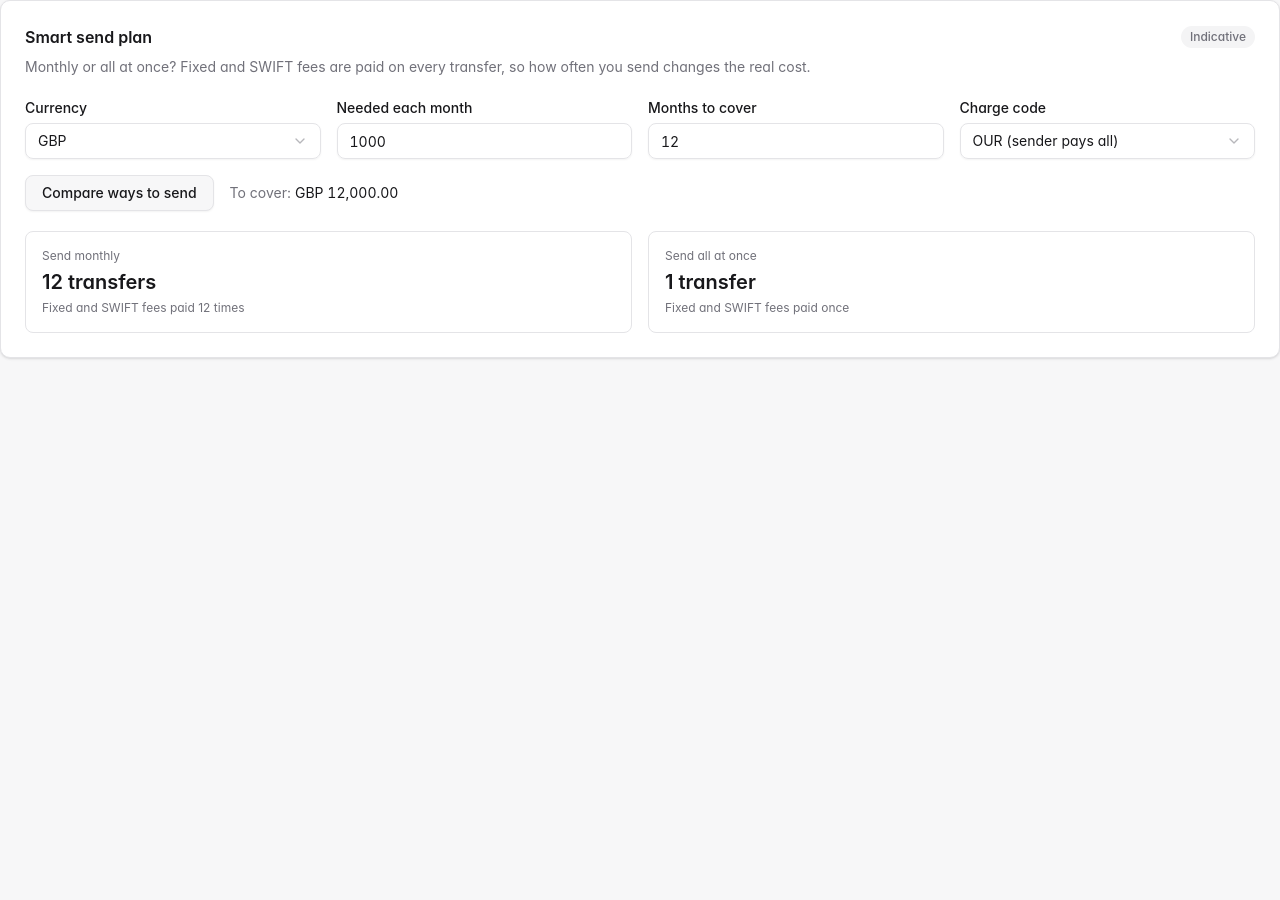
it: SendPlanCard › keeps the comparison hidden until the person asks for it
Click the button "Compare ways to send" at (119, 193), box x1=25 y1=175 x2=214 y2=211
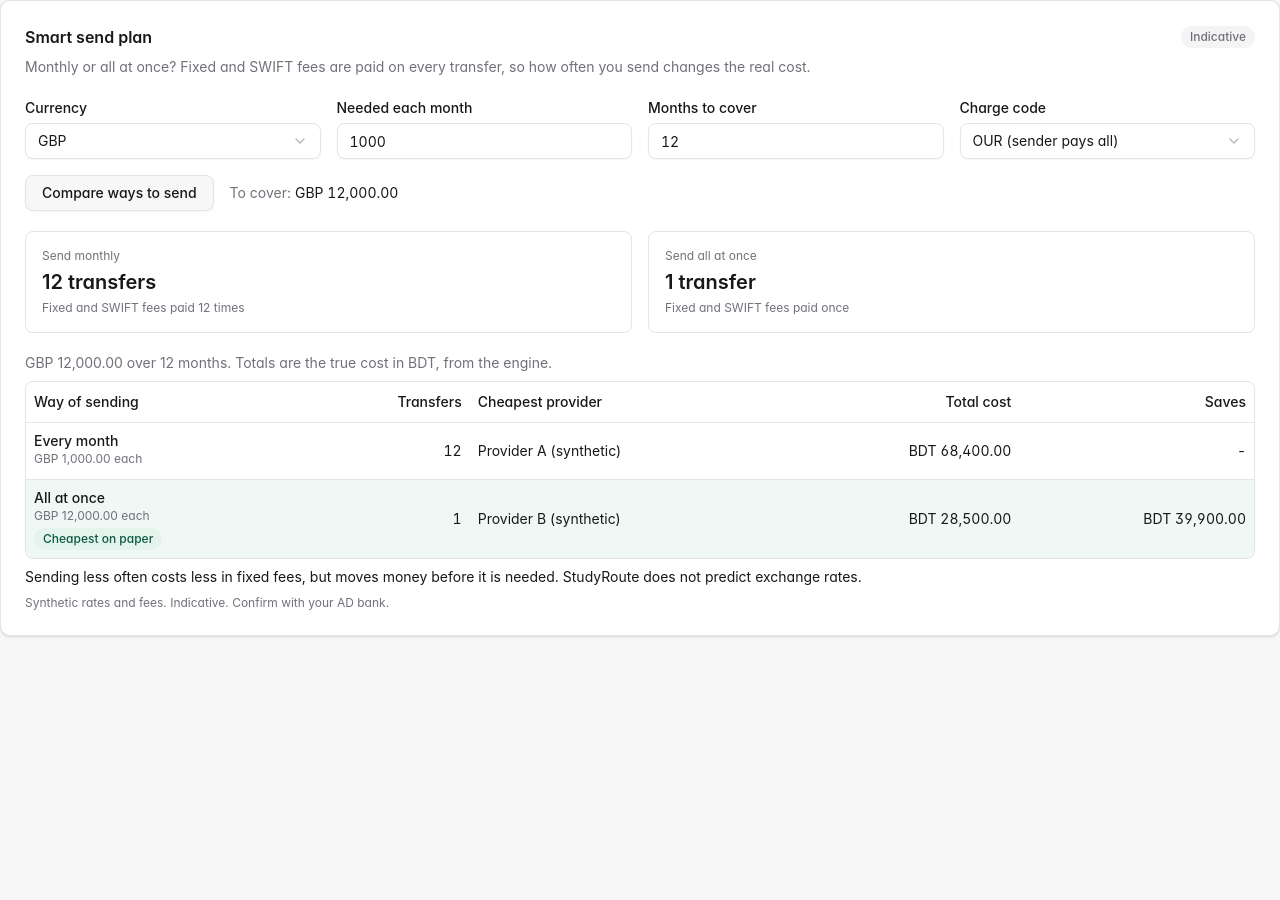
Expected: the element named "Send plan comparison table" is shown, x1=25 y1=381 x2=1255 y2=558
Expected: the text "Cheapest on paper" is shown, x1=34 y1=528 x2=162 y2=550
